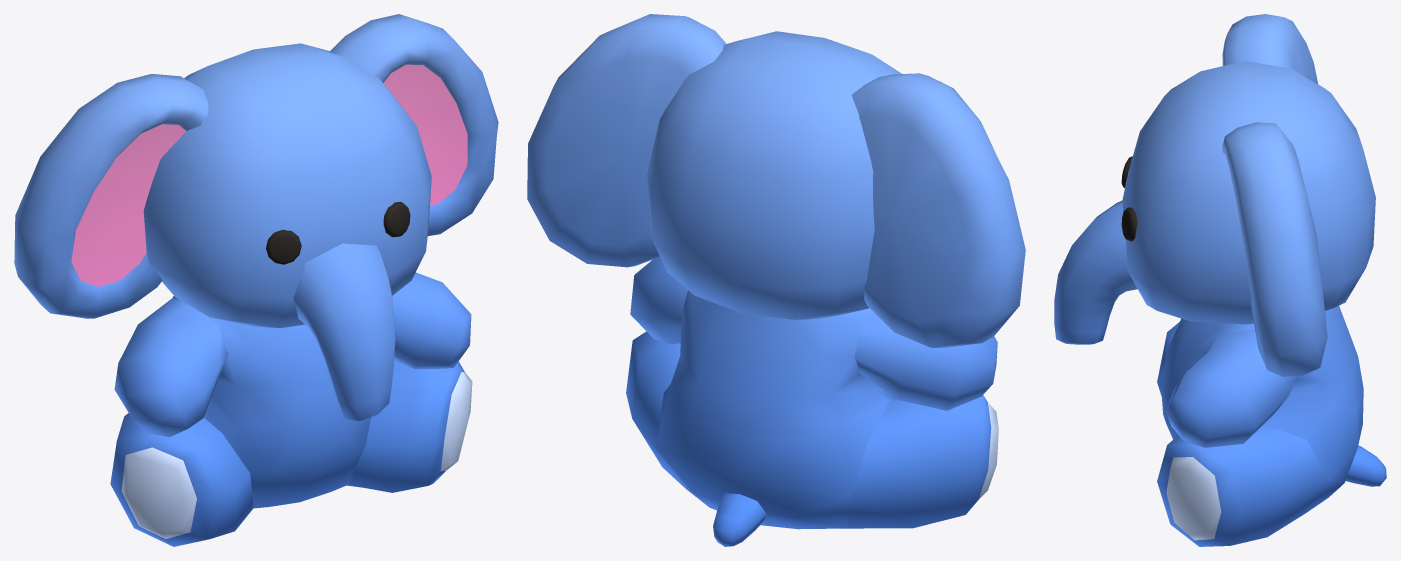
The model's file is elephant.glb.
The picture shows the model from 3 angles, left to right: view 1: azimuth 30°, elevation 25°; view 2: azimuth 150°, elevation 25°; view 3: azimuth 270°, elevation 25°; orthographic projection. The views are drawn at different scales.
Visible parts, largest first — view 1: Elephant_01; view 2: Elephant_01; view 3: Elephant_01.
Boxes of the visible parts, <box> form: Elephant_01: <box>14,14,498,546</box>; Elephant_01: <box>527,14,1025,546</box>; Elephant_01: <box>1054,14,1386,546</box>.
Bounding box in the file's own units: 0.4479 × 0.4082 × 0.2933.
Materials: 2 (2 with a texture image).
